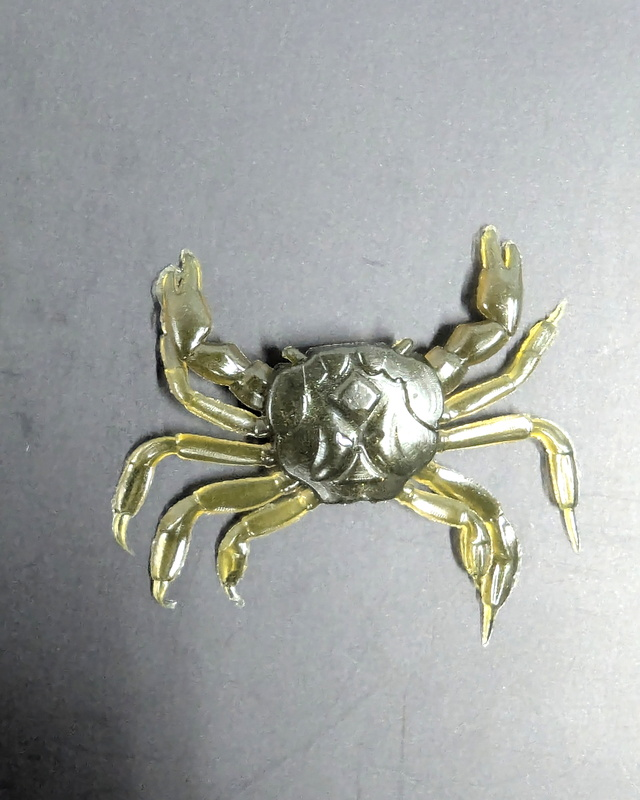crab2: (110, 225, 580, 646)
